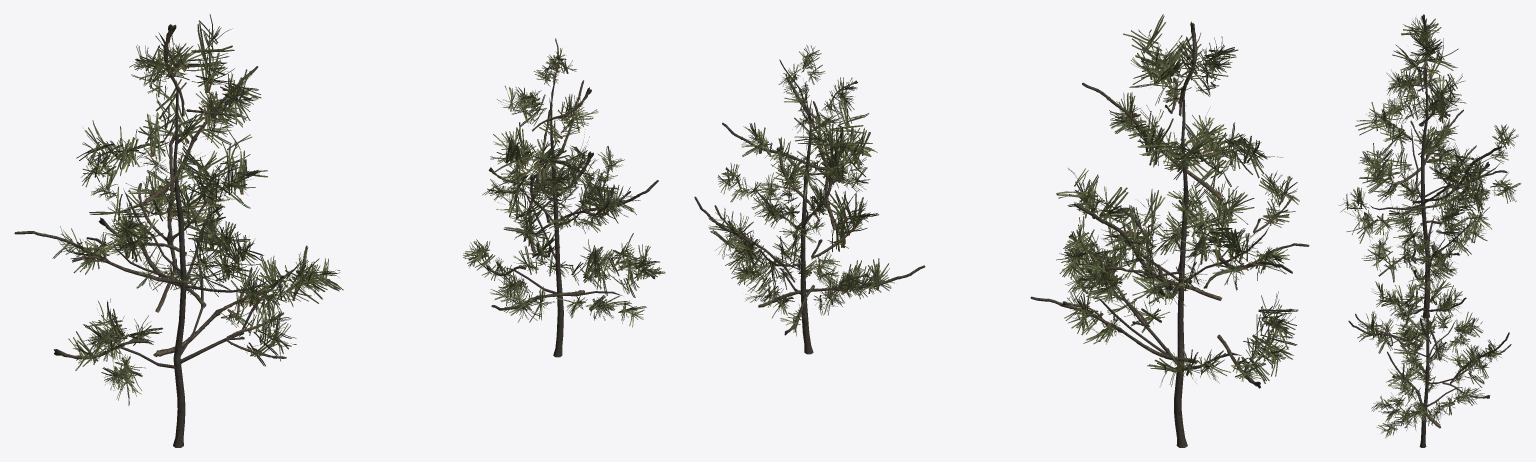
The model's file is pine_sapling_small.glb.
3 views of the same model, side by side, from view 1: azimuth 30°, elevation 25°; view 2: azimuth 150°, elevation 25°; view 3: azimuth 270°, elevation 25° (orthographic). The views are drawn at different scales.
Parts seen in each view (by area): view 1: pine_sapling_small_a, pine_sapling_small_c; view 2: pine_sapling_small_a, pine_sapling_small_c; view 3: pine_sapling_small_a, pine_sapling_small_c.
Boxes of the visible parts, left/top/right/bottom form: pine_sapling_small_a: left=14, top=14, right=343, bottom=447; pine_sapling_small_c: left=463, top=38, right=665, bottom=357; pine_sapling_small_a: left=1030, top=14, right=1309, bottom=447; pine_sapling_small_c: left=694, top=45, right=925, bottom=354; pine_sapling_small_a: left=1338, top=14, right=1521, bottom=318; pine_sapling_small_c: left=1348, top=230, right=1511, bottom=447.
Size of the model in its own units: 2 by 1.34 by 0.7432.
2 materials, 2 textured.
